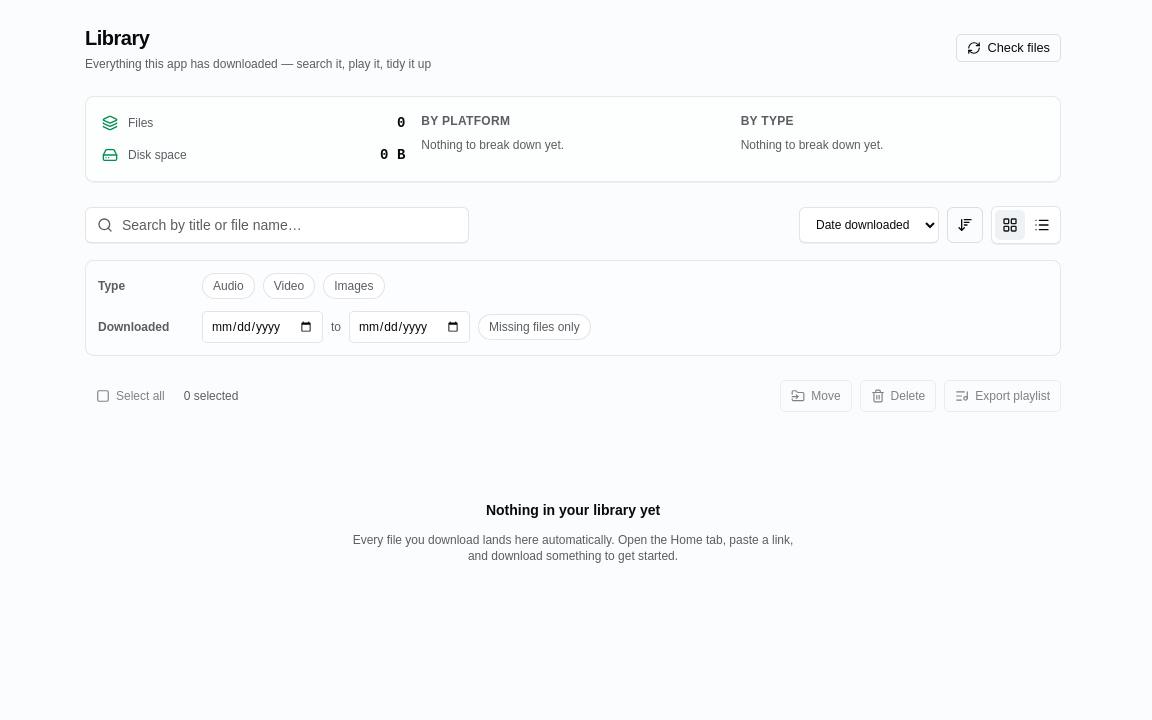
Test: Library — empty states (FR-311) › tells someone with nothing downloaded something different from someone whose filters matched nothing
// Now the same empty list, but because of a filter.
Click the button with test id "library-filter-media-type-audio": (228, 286) [202,273,255,299]
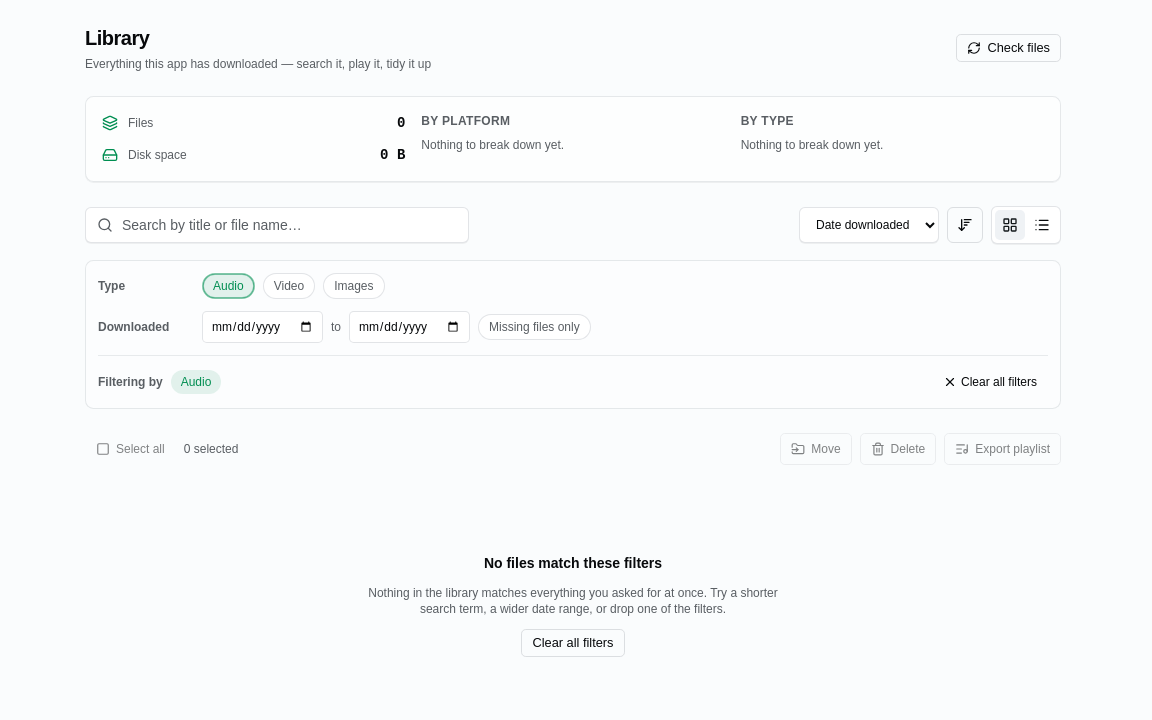
Check: the button with test id "library-clear-filters-empty" is shown, box [522,629,625,657]
